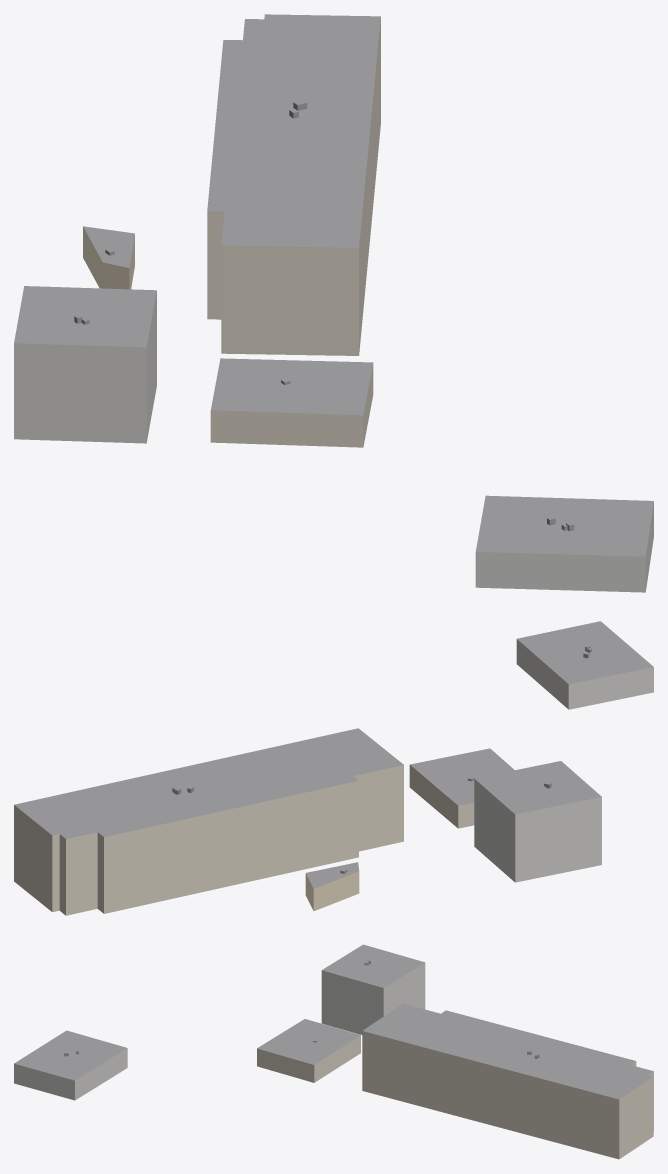
Rendered from building_-4_0.glb.
3 renders of one model, top to bottom at view 1: azimuth 30°, elevation 25°; view 2: azimuth 150°, elevation 25°; view 3: azimuth 270°, elevation 25°, orthographic. The views are drawn at different scales.
Parts seen in each view (by area): view 1: roof, concrete_warm, concrete_light, sandstone; view 2: concrete_warm, roof, concrete_light, sandstone; view 3: concrete_warm, roof, concrete_light.
Part boxes in pixels (box(x1,y1,x2,y2)): roof: box(14, 14, 653, 556); concrete_warm: box(207, 17, 380, 447); concrete_light: box(14, 291, 653, 592); sandstone: box(83, 226, 134, 289); concrete_warm: box(14, 765, 474, 915); roof: box(14, 621, 653, 888); concrete_light: box(474, 639, 653, 882); sandstone: box(305, 871, 359, 910); concrete_warm: box(257, 1031, 653, 1159); roof: box(14, 944, 653, 1099); concrete_light: box(14, 963, 425, 1100).
Bounding box in the file's own units: 191 × 34.79 × 319.
